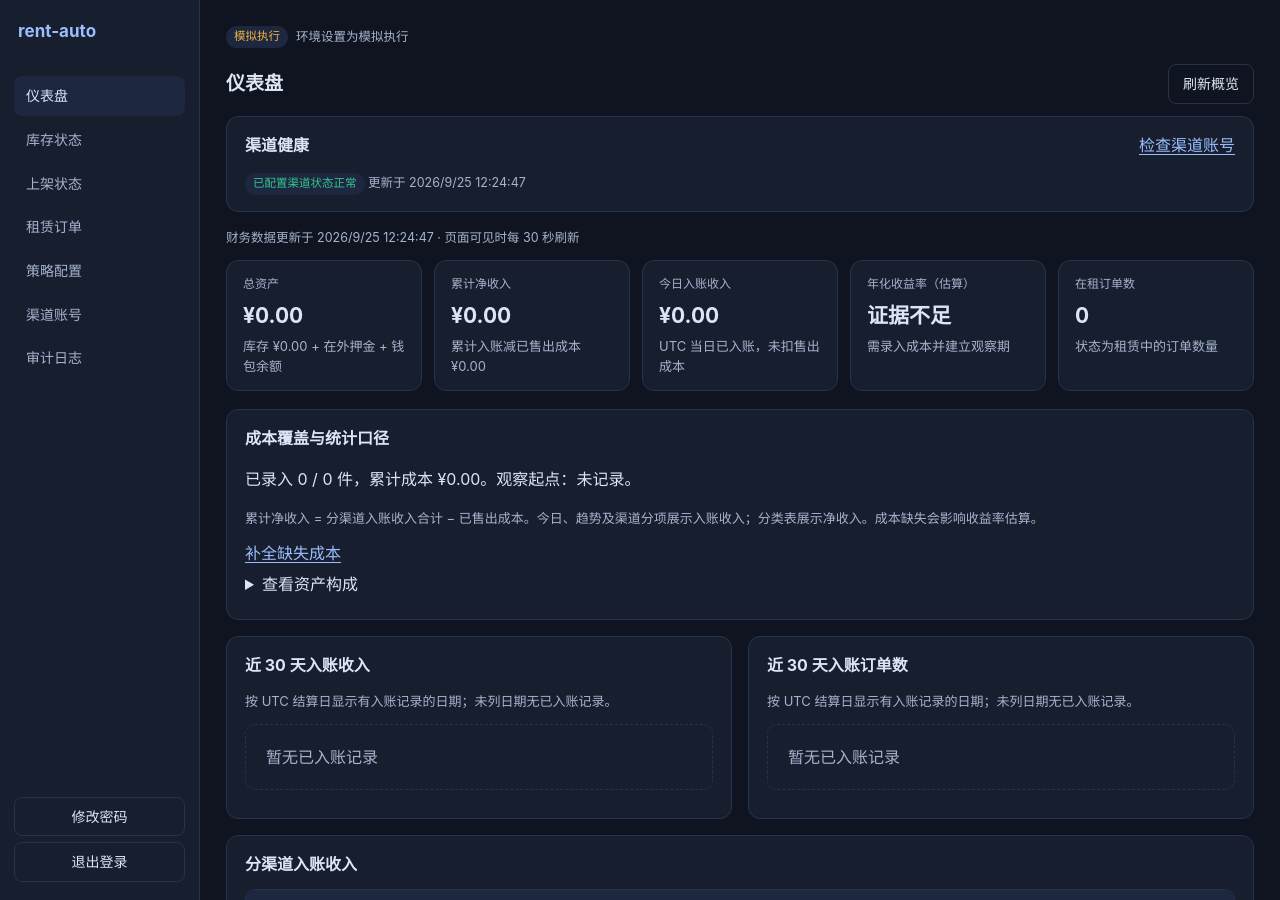
Test case: App auth gate › changes the password and clears the revoked session
The image size is (1280, 900).
Expected: the heading "仪表盘" is shown, [226,69,283,98]
Click the button "修改密码".
click(100, 816)  # box [14,797,185,836]
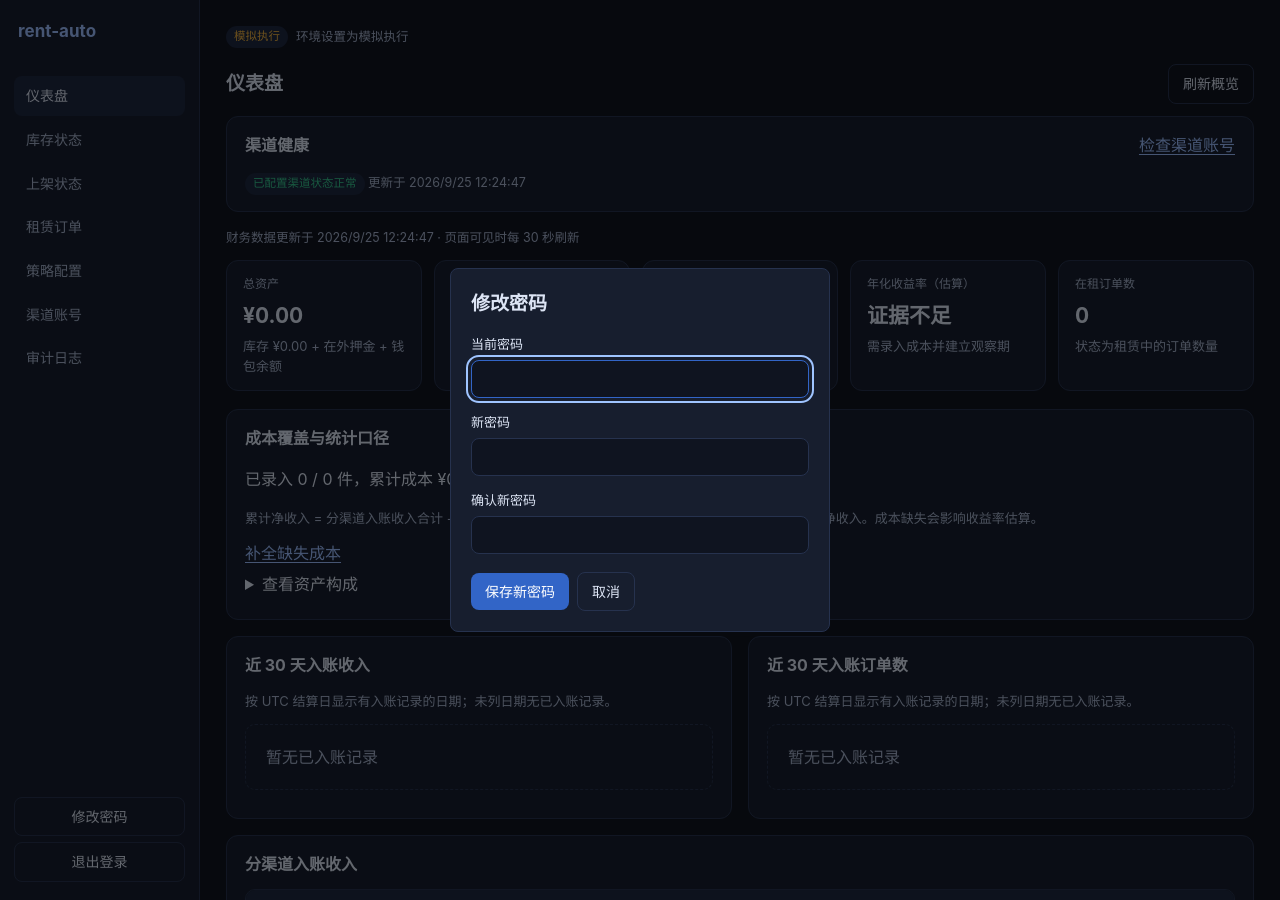
Expected: the dialog "修改密码" is shown, [450,268,830,632]
Type "current-password" into the password field labelled "当前密码".
click(640, 379); type("current-password")  # box [471,360,809,398]
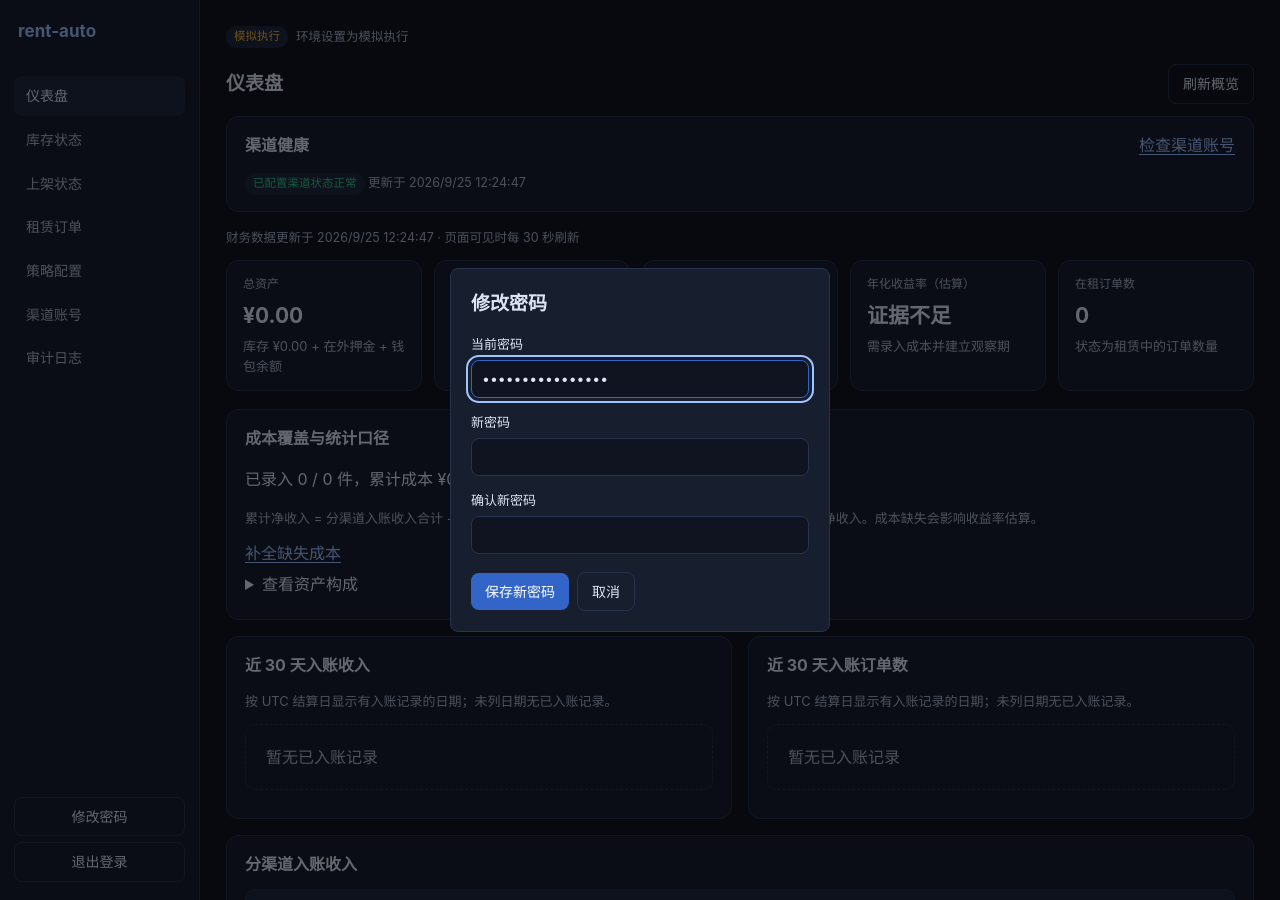
Type "new-password-123" into the password field labelled "新密码".
click(640, 457); type("new-password-123")  # box [471,438,809,476]
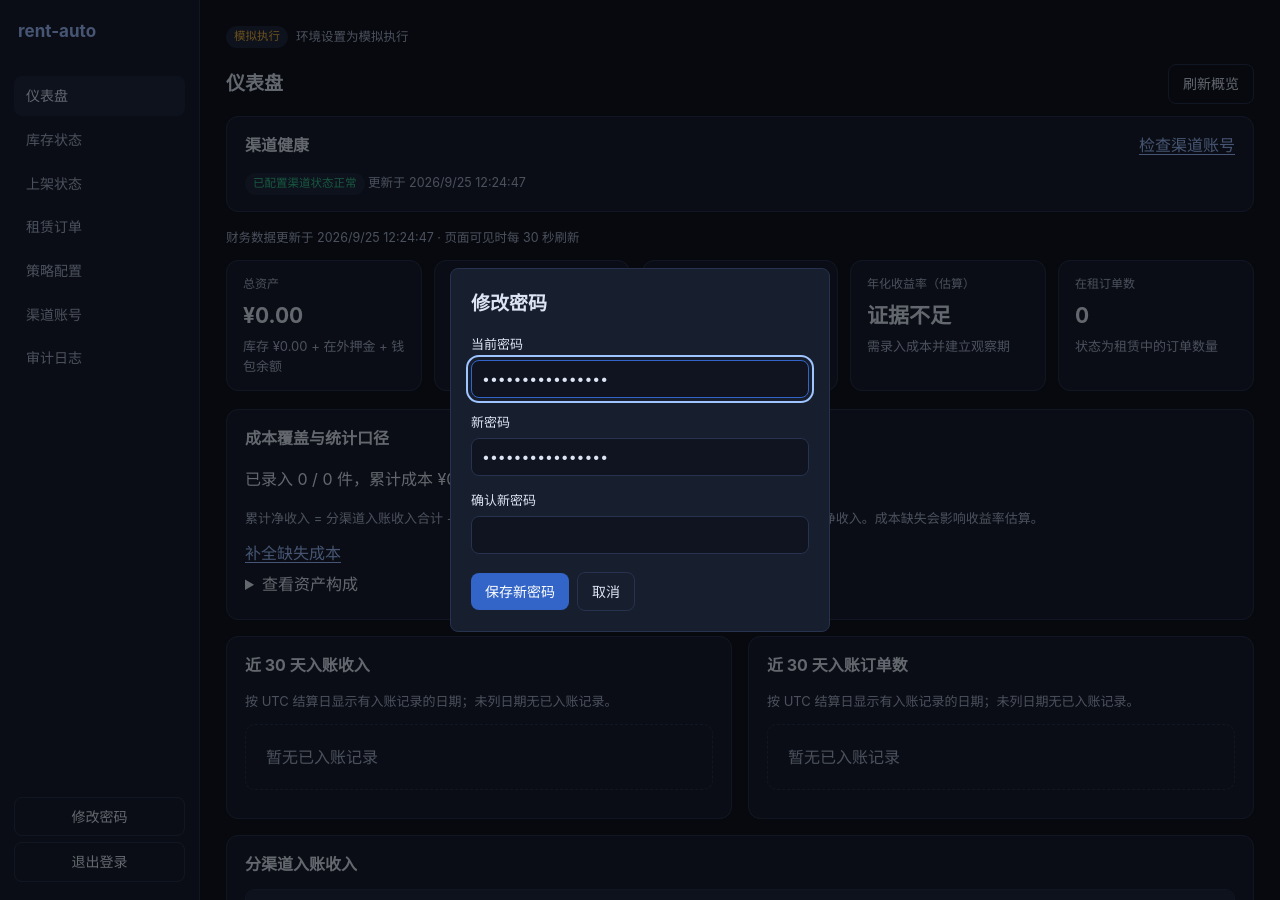
Type "new-password-123" into the password field labelled "确认新密码".
click(640, 535); type("new-password-123")  # box [471,516,809,554]
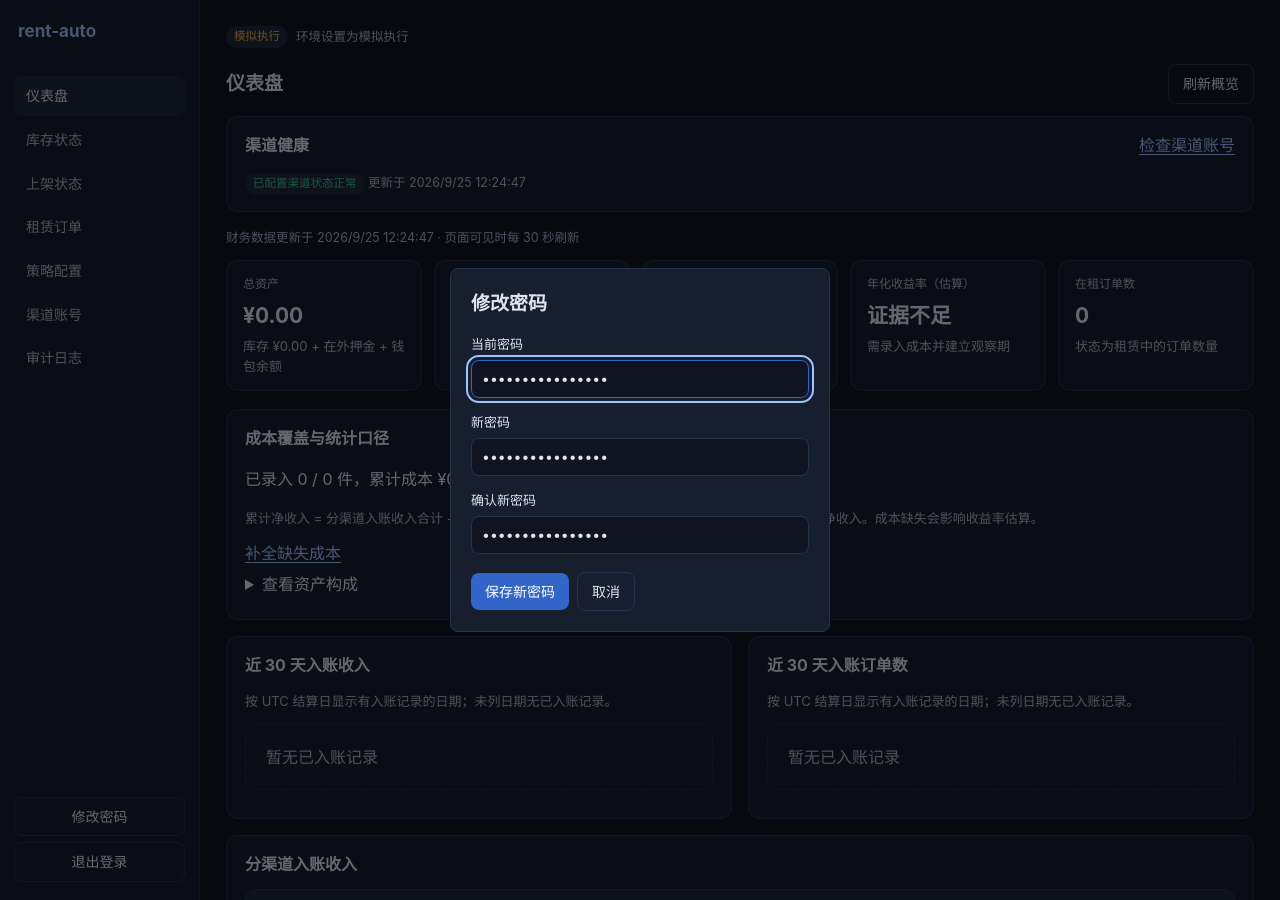
Click the button "保存新密码".
click(520, 591)  # box [471,573,569,610]
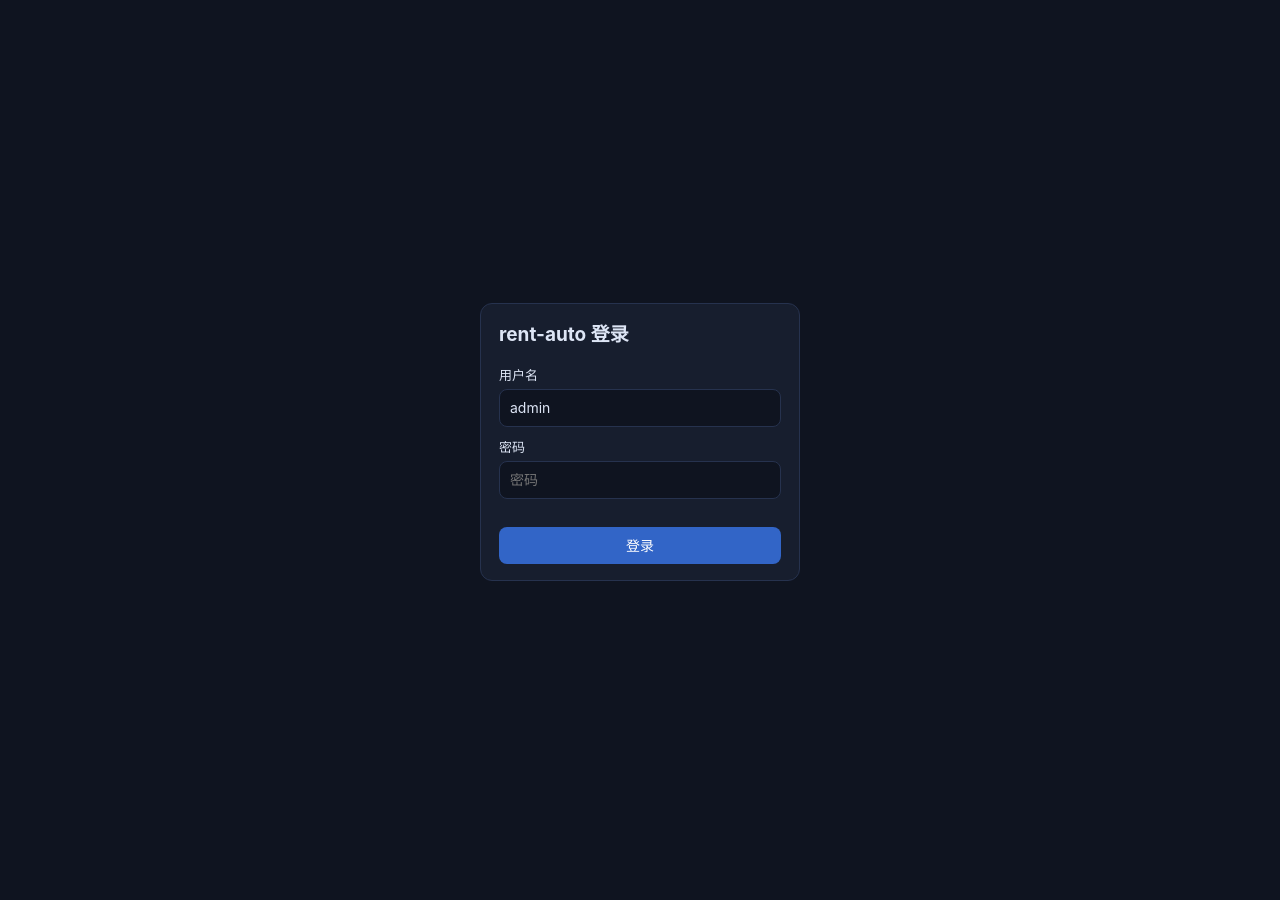
Expected: the heading "rent-auto 登录" is shown, [499,323,629,346]
Expected: the dialog is gone
